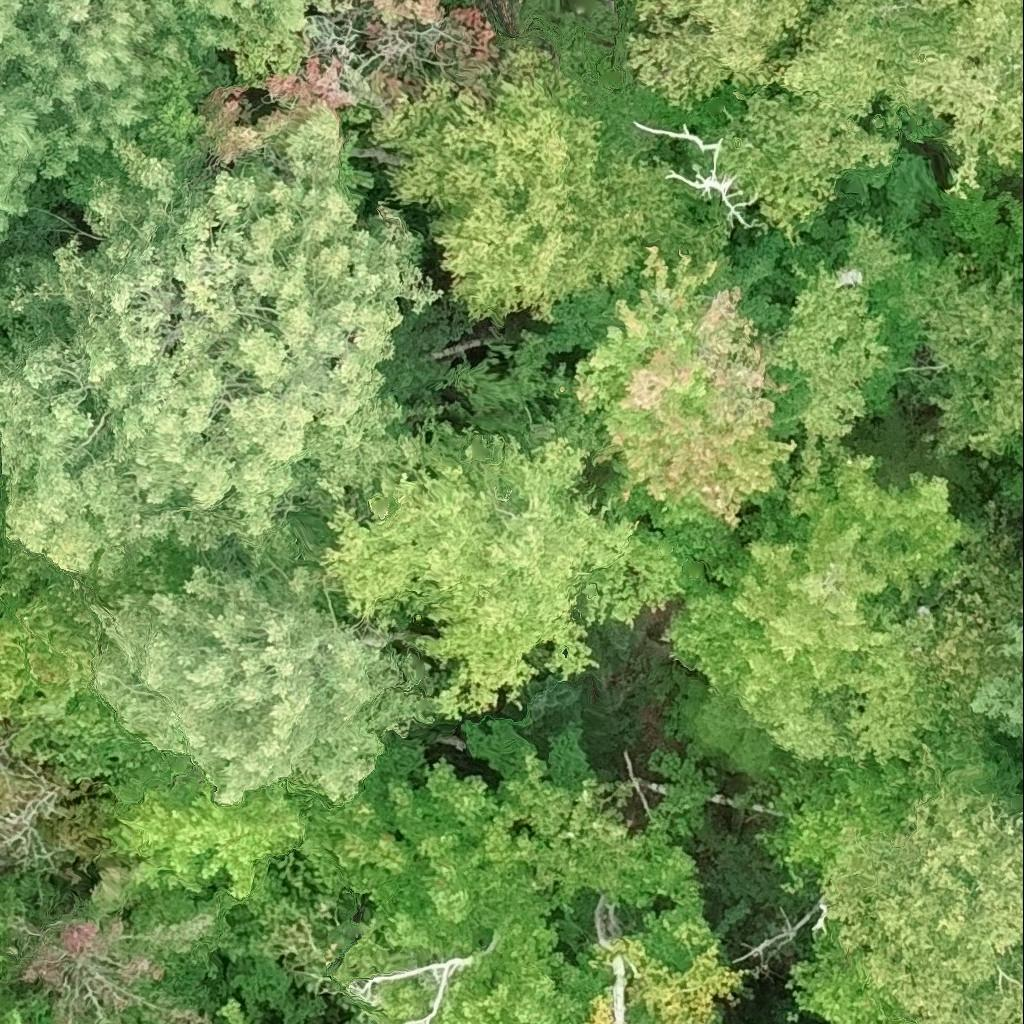crown: (0, 154, 430, 574), (311, 411, 686, 715), (368, 46, 735, 328), (664, 448, 979, 738), (91, 549, 446, 805), (332, 730, 608, 1023), (712, 0, 949, 234), (818, 765, 1023, 1023), (465, 716, 719, 912), (844, 499, 1023, 772), (603, 287, 797, 528), (0, 864, 250, 1023), (763, 213, 912, 470), (0, 0, 155, 242), (102, 769, 315, 913), (898, 248, 1023, 489), (572, 247, 715, 412), (624, 0, 827, 115), (757, 760, 923, 894), (238, 13, 433, 125), (0, 594, 122, 765), (897, 45, 1023, 198), (123, 75, 289, 177), (221, 845, 353, 962), (359, 0, 509, 92), (783, 916, 911, 1023), (301, 774, 395, 908), (348, 955, 473, 1023), (915, 0, 1023, 58), (365, 970, 438, 1023), (969, 670, 1023, 741), (179, 0, 303, 27), (609, 952, 634, 1023), (986, 622, 1023, 666), (0, 1006, 28, 1023), (1023, 171, 1023, 173)
